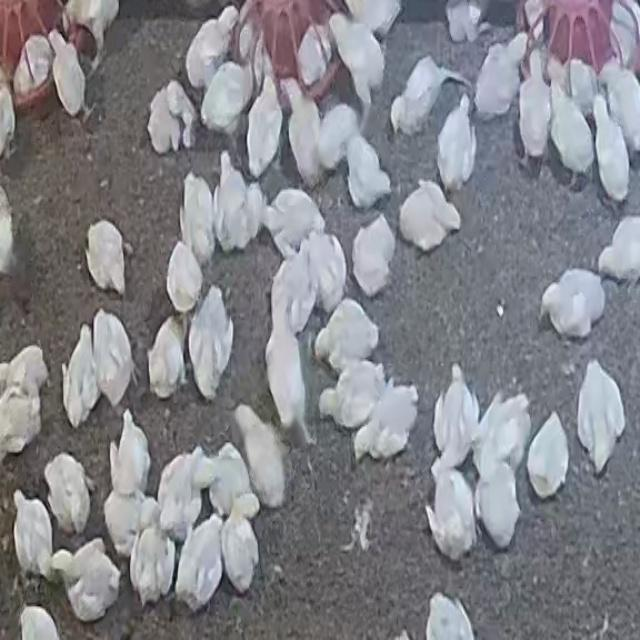chicken: (264, 271, 312, 447), (326, 12, 388, 118), (576, 354, 630, 474), (231, 405, 290, 506), (54, 538, 122, 621), (547, 75, 595, 187), (472, 390, 532, 479), (188, 285, 234, 401), (355, 379, 420, 461), (173, 511, 226, 611), (432, 363, 478, 472), (424, 467, 476, 562), (319, 360, 386, 432), (314, 302, 378, 376), (184, 8, 239, 94), (127, 516, 177, 610), (91, 308, 137, 409), (262, 186, 326, 258), (214, 151, 259, 252), (589, 94, 630, 204), (388, 58, 446, 135), (472, 36, 526, 118), (155, 450, 204, 540), (515, 50, 552, 168), (284, 78, 324, 186), (398, 182, 460, 251), (270, 246, 316, 338), (542, 268, 606, 334), (475, 458, 520, 551), (44, 452, 92, 538), (200, 444, 254, 520), (245, 74, 283, 180), (200, 61, 253, 137), (343, 130, 391, 212), (436, 94, 476, 192), (61, 324, 99, 427), (12, 489, 54, 582), (110, 409, 152, 502), (219, 498, 259, 594), (46, 27, 87, 120), (525, 412, 569, 498), (351, 215, 397, 297), (146, 81, 196, 156), (600, 66, 640, 158), (305, 229, 347, 314), (146, 315, 187, 401), (314, 100, 360, 176), (180, 170, 216, 267), (84, 220, 128, 296), (12, 35, 54, 107), (102, 486, 144, 556), (165, 240, 204, 314), (599, 215, 640, 284), (294, 23, 332, 89), (608, 0, 640, 64)
